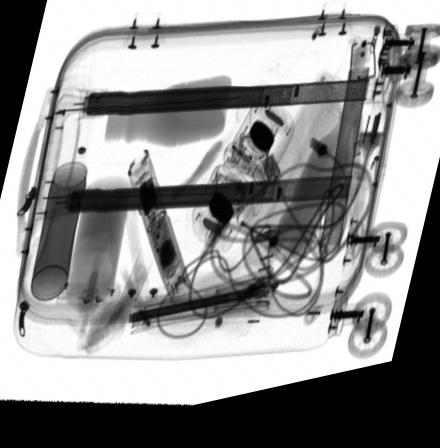Baton: (127, 156, 189, 313)
